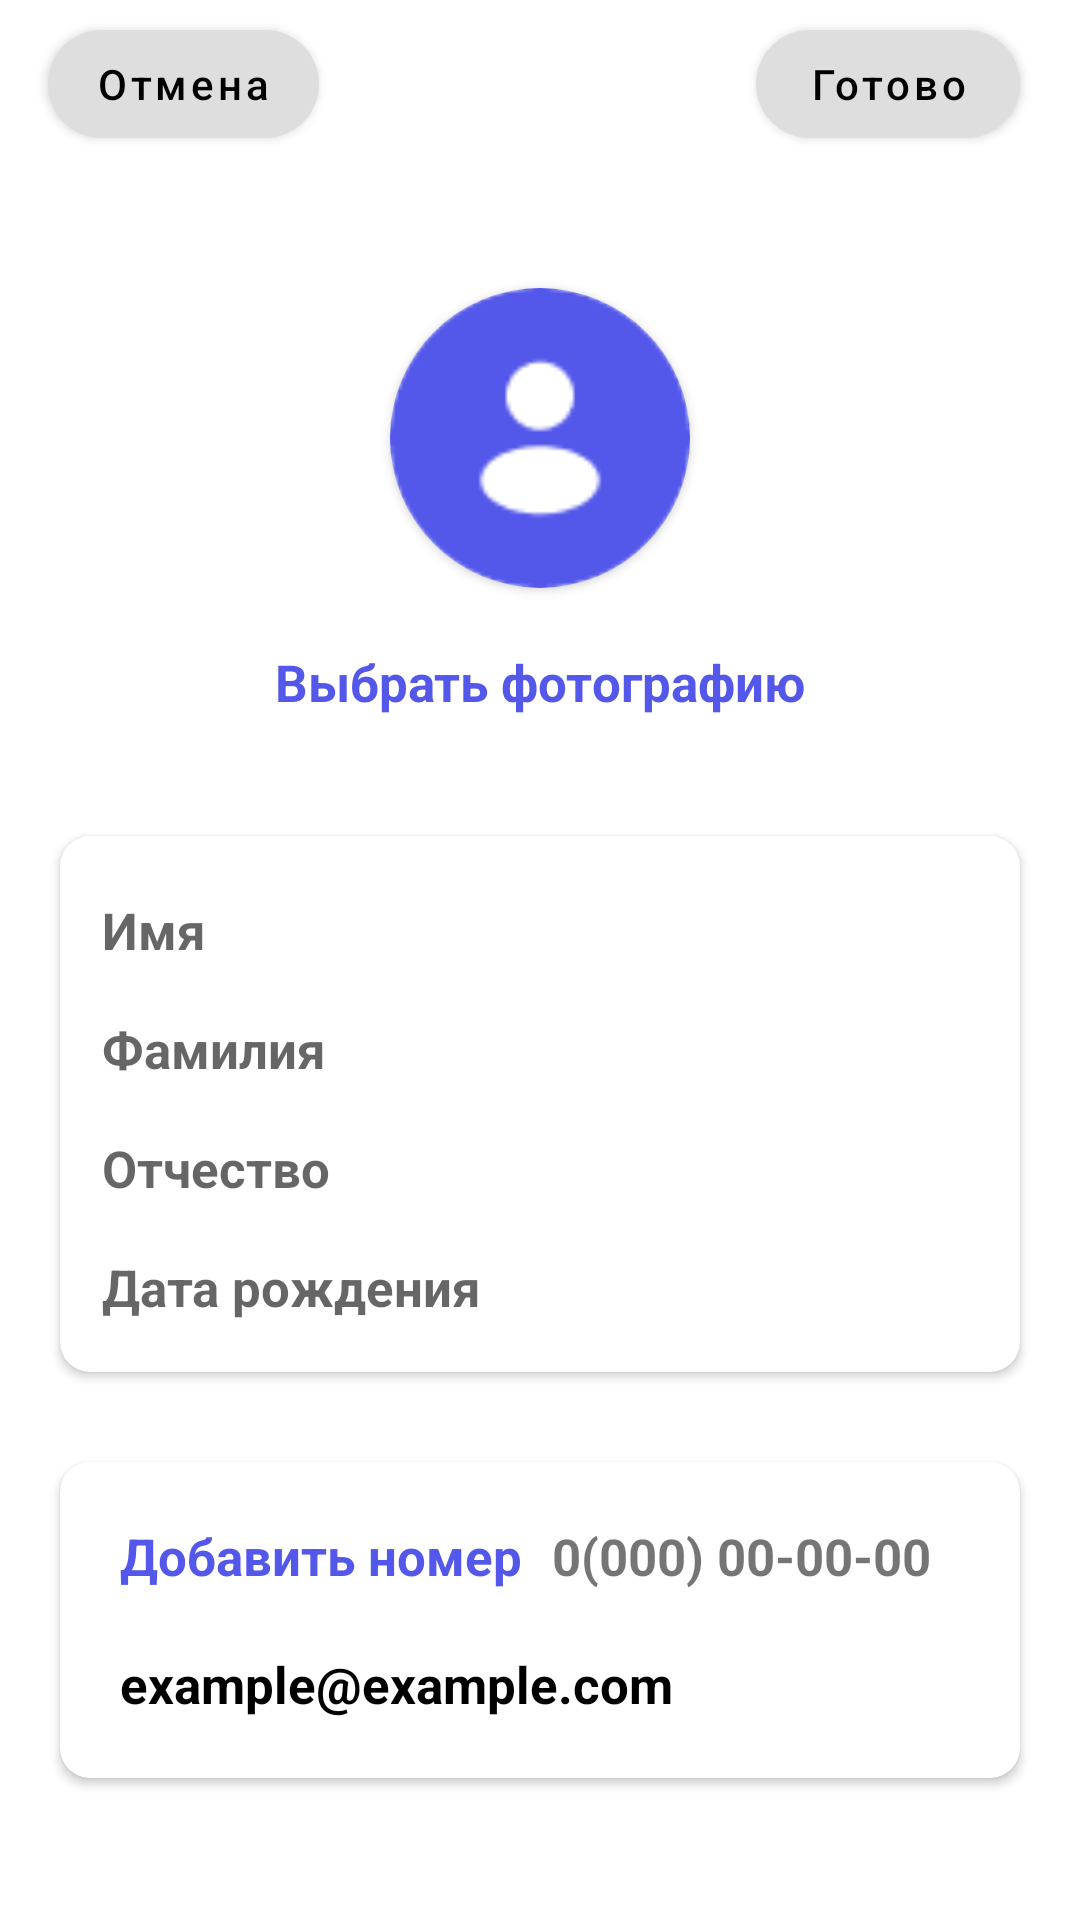

Screen size 1080 × 1920. Icon name, then its center in pixels as (x=x, y=y):
profile: (x=540, y=438)
